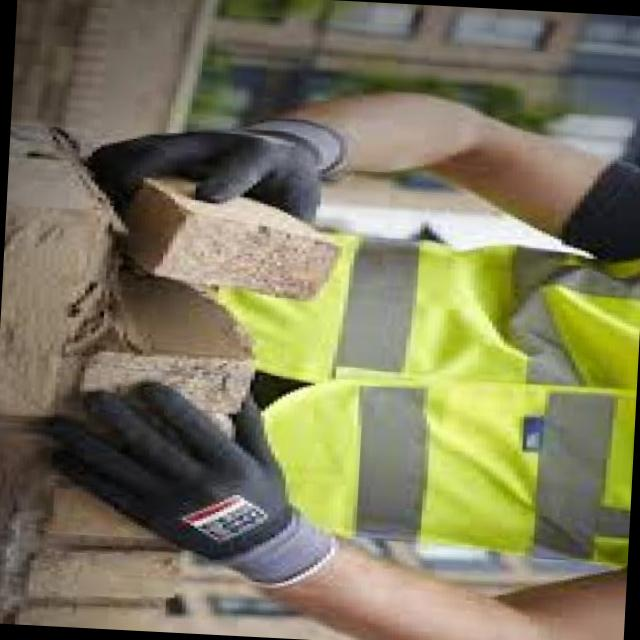gloved: (33, 374, 346, 589), (84, 106, 356, 228)
